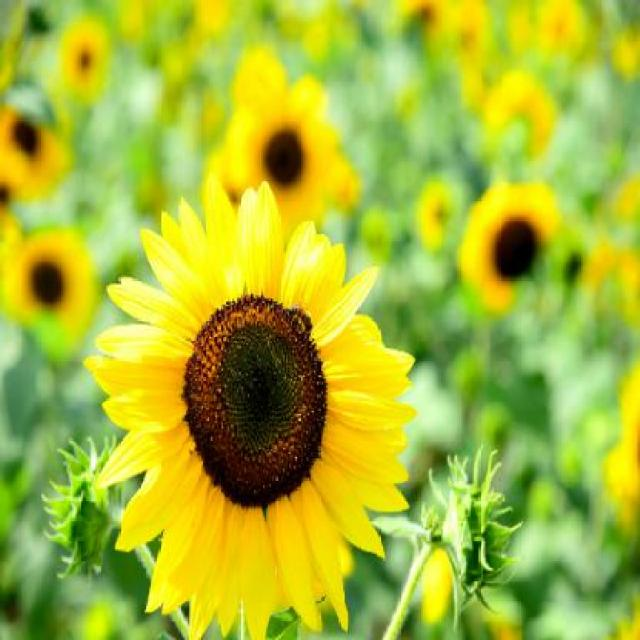sunflower: (78, 158, 422, 640), (224, 78, 336, 225), (454, 174, 567, 314)
